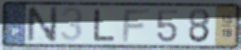3: (59, 5, 87, 45)
5: (156, 8, 180, 43)
8: (187, 8, 212, 45)
F: (120, 8, 152, 44)
L: (92, 8, 118, 42)
N: (25, 5, 60, 44)
